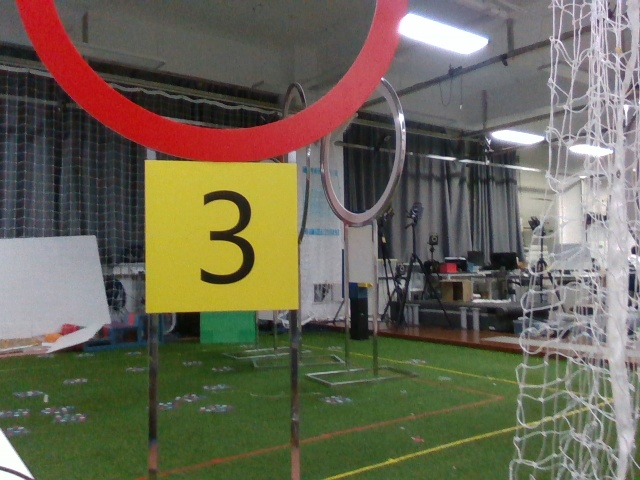target: (145, 164, 292, 314)
